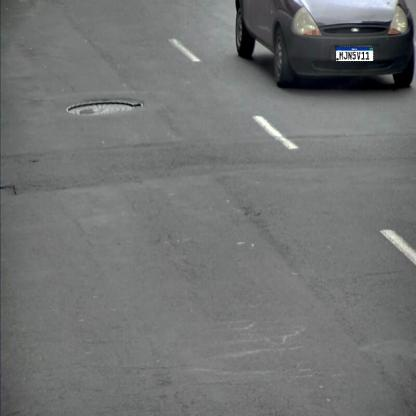PlacaM: (335, 46, 374, 62)
